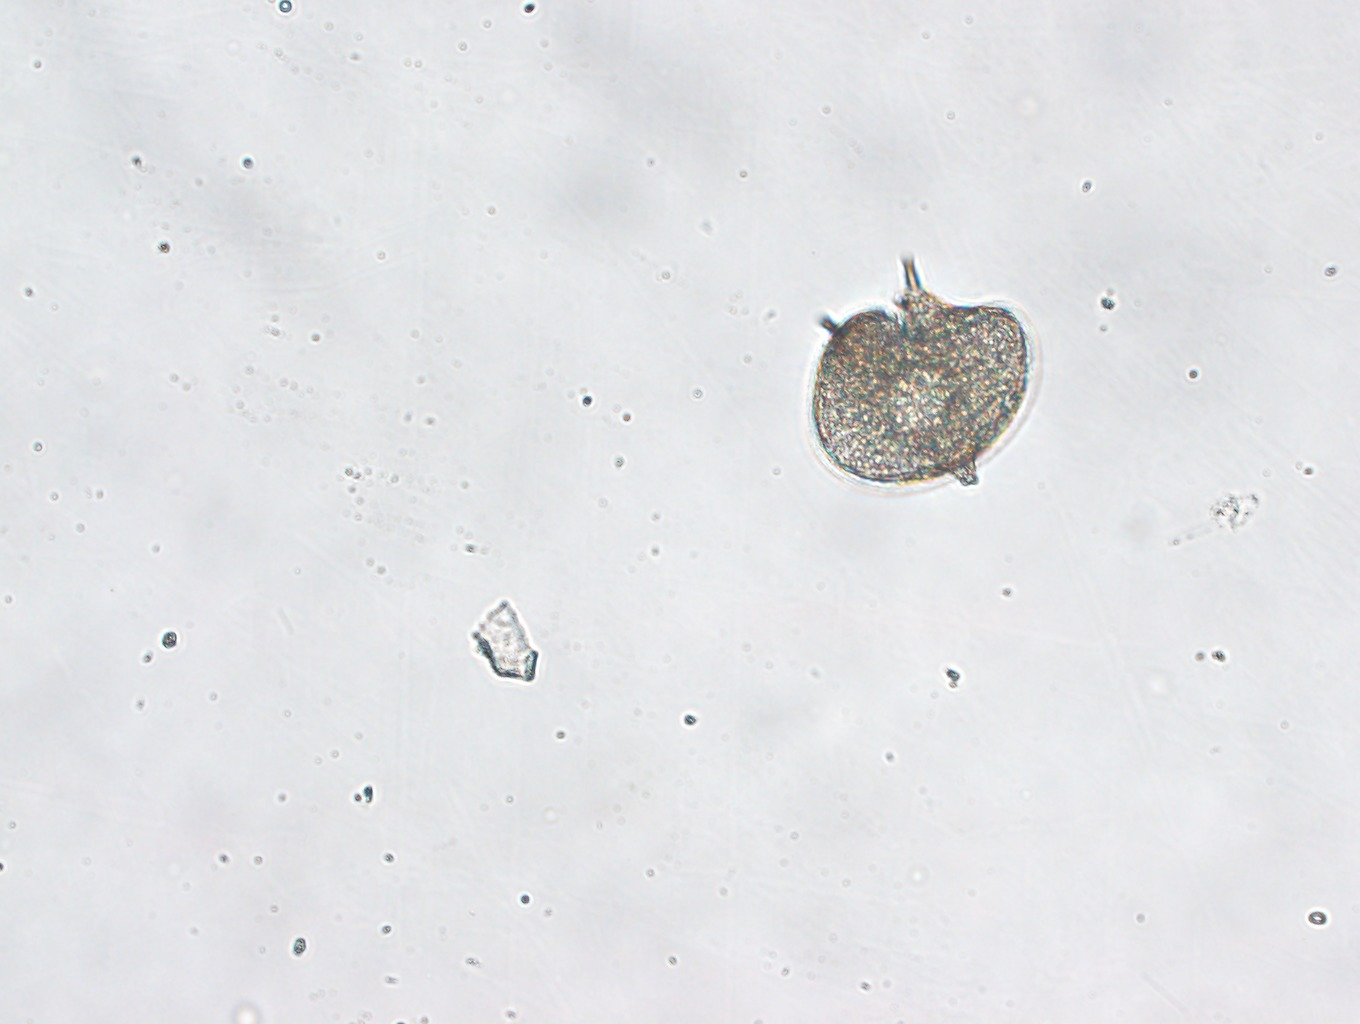protoperidinium: (806, 255, 1042, 490)
